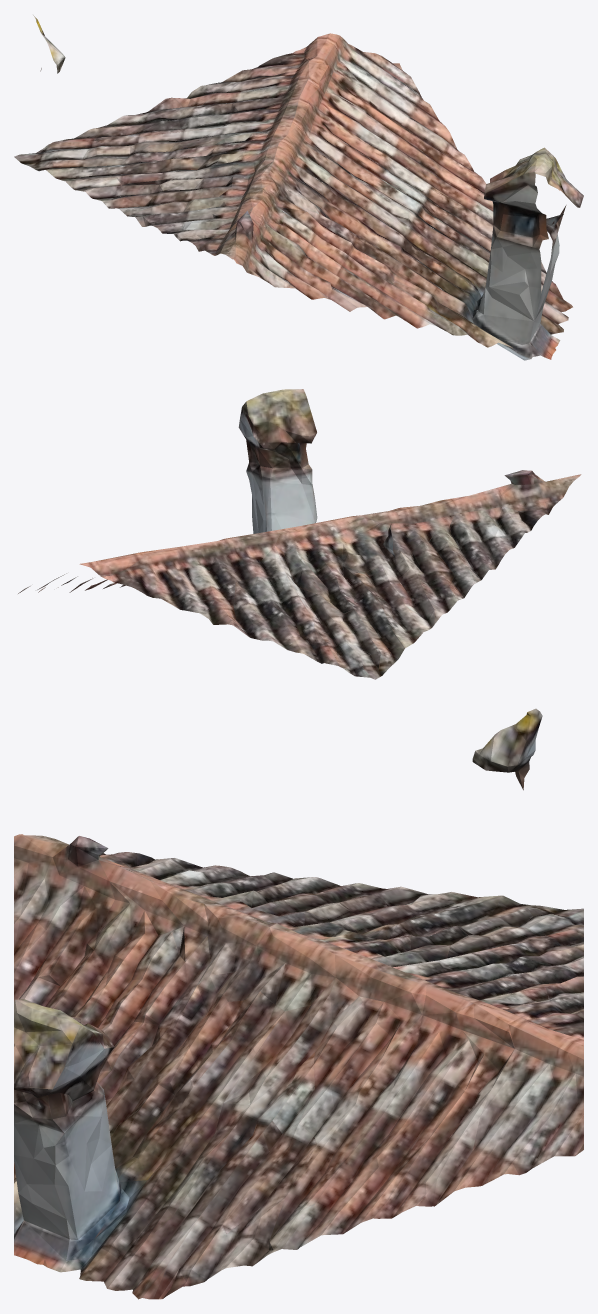
3 renders of one model, top to bottom at view 1: azimuth 30°, elevation 25°; view 2: azimuth 150°, elevation 25°; view 3: azimuth 270°, elevation 25°, orthographic. The views are drawn at different scales.
Bounding box in the file's own units: 3.35 × 2.27 × 3.35.
Materials: 3 (3 with a texture image).
